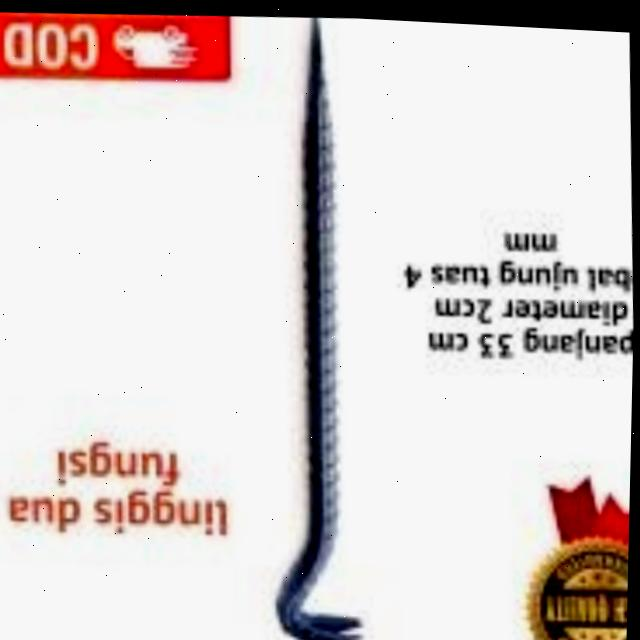crow bar: (273, 13, 365, 640)
